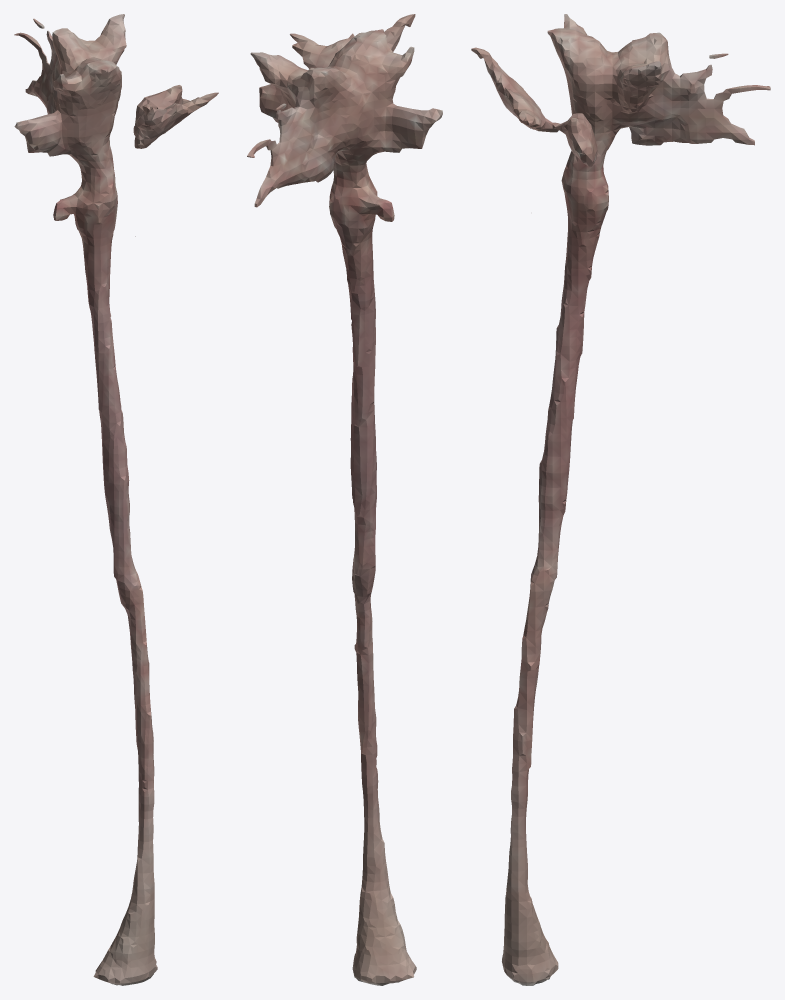
The model's file is palmera.glb.
The picture shows the model from 3 angles, left to right: view 1: azimuth 30°, elevation 25°; view 2: azimuth 150°, elevation 25°; view 3: azimuth 270°, elevation 25°; orthographic projection. The views are drawn at different scales.
Parts seen in each view (by area): view 1: world; view 2: world; view 3: world.
Boxes of the visible parts, x1=… form: world: x1=14, y1=14, x2=218, y2=985; world: x1=247, y1=14, x2=442, y2=985; world: x1=471, y1=14, x2=770, y2=985.
Size of the model in its own units: 0.3985 by 1.99 by 0.5757.
